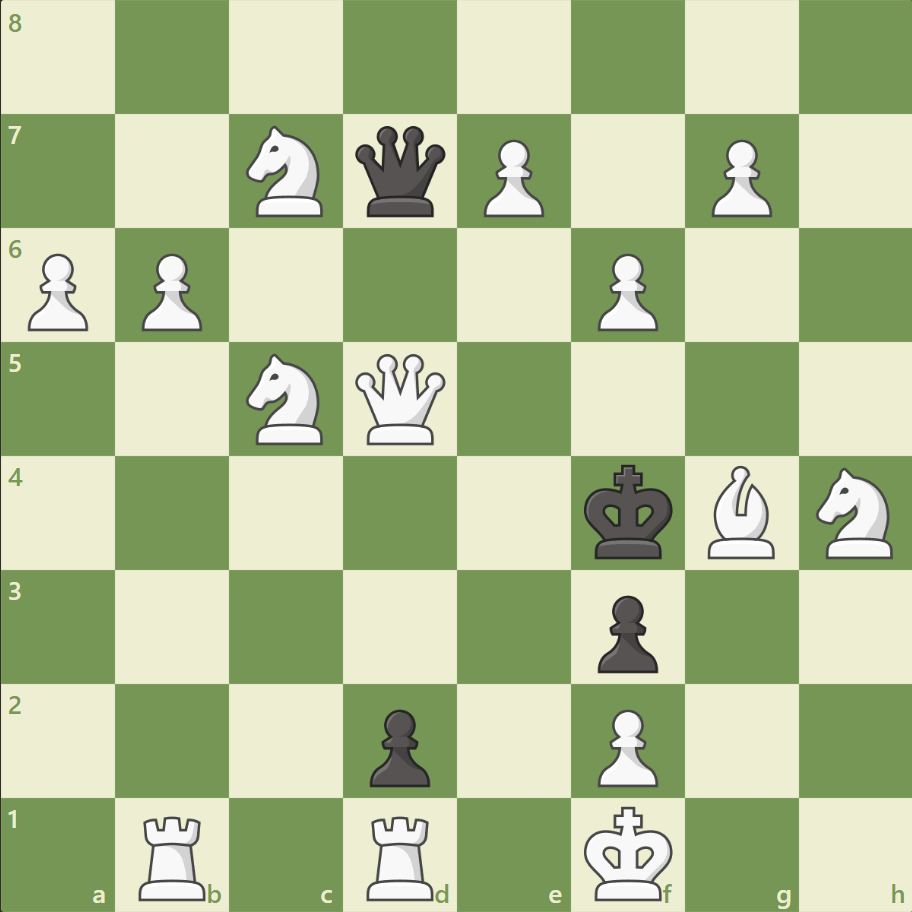B: (698, 460, 782, 563)
K: (579, 798, 679, 906)
N: (806, 461, 903, 564), (238, 121, 335, 223), (238, 348, 335, 450)
P: (474, 132, 549, 223), (701, 132, 776, 223), (20, 246, 95, 337), (133, 246, 208, 337), (588, 246, 662, 337), (588, 700, 662, 791)
Q: (351, 349, 450, 449)
R: (133, 806, 215, 904), (360, 806, 442, 904)
k: (579, 458, 679, 566)
p: (588, 586, 662, 677), (361, 700, 435, 791)
q: (351, 122, 450, 222)
